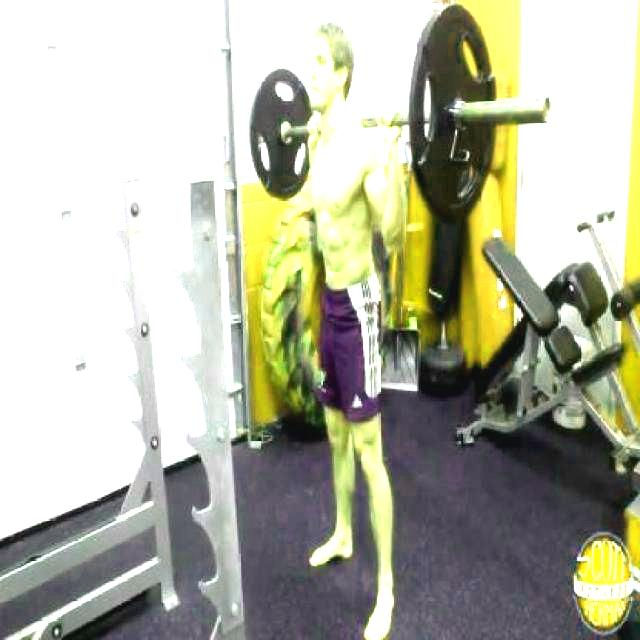barbell: (404, 1, 554, 228)
